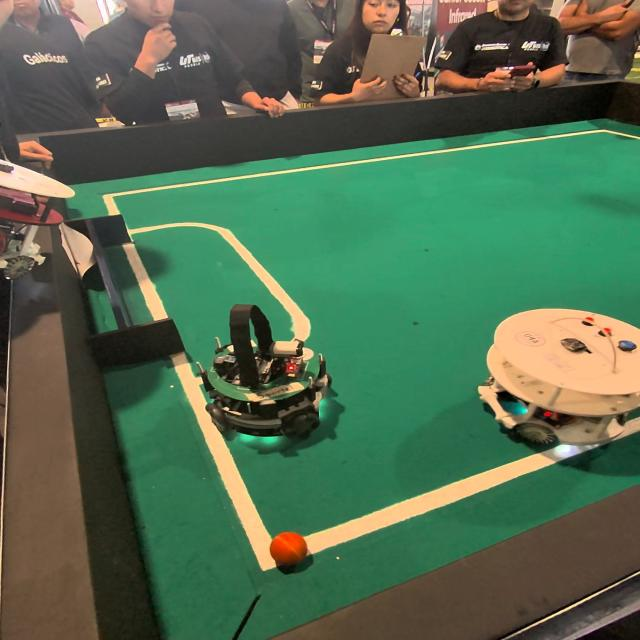Robot: (472, 295, 640, 466), (188, 294, 347, 457)
pelota: (270, 531, 310, 573)
